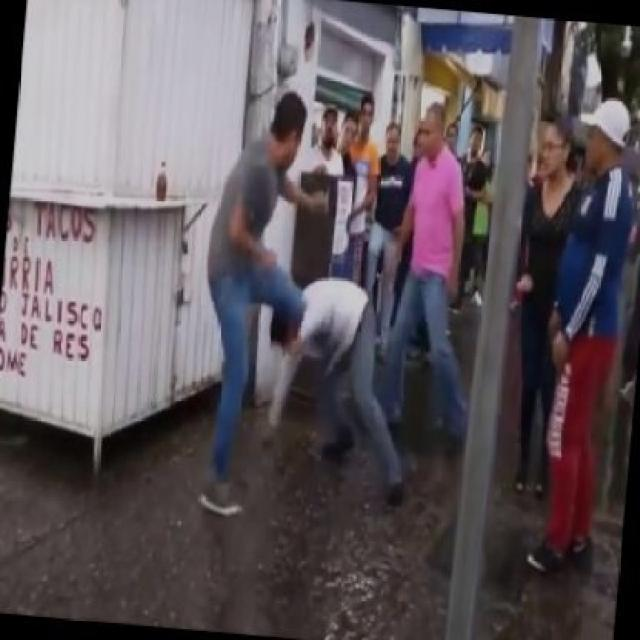fight: (178, 81, 416, 535)
non-fight: (496, 78, 638, 588), (345, 88, 500, 464), (504, 108, 598, 498)
